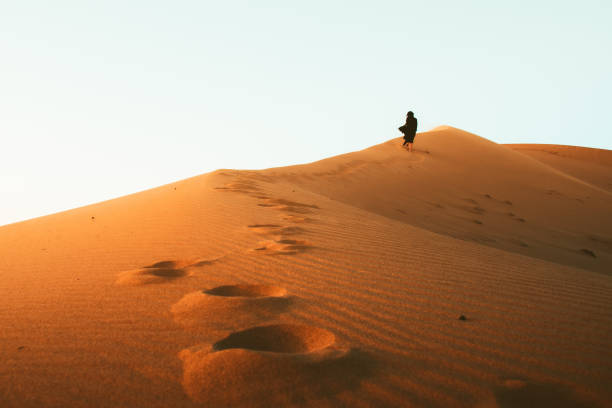human_foot_print: (210, 312, 334, 382), (115, 258, 217, 285), (258, 213, 296, 258), (208, 282, 290, 302), (254, 202, 288, 216)
